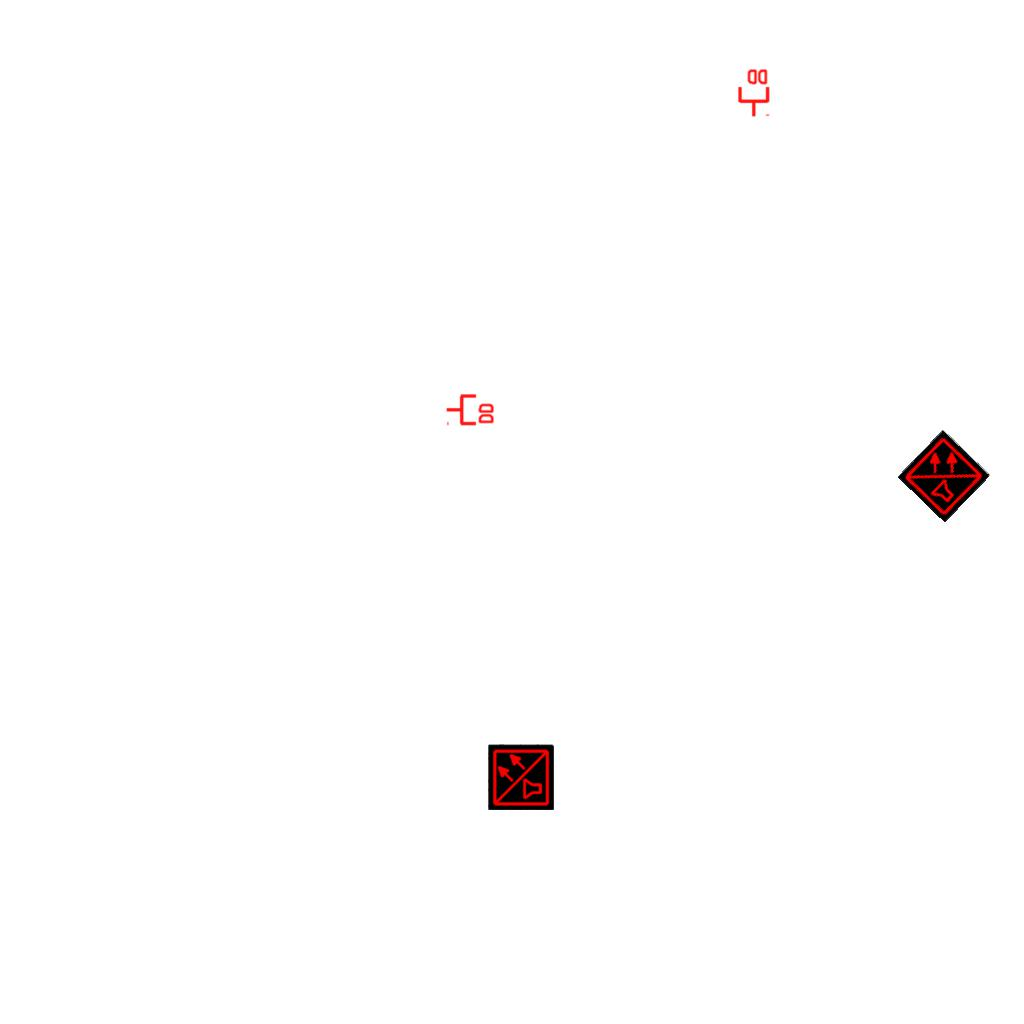Datenanschluss_zweifach: (445, 392, 496, 426), (736, 67, 770, 118)
OKW_Multisensormelder_(Kombination_optischer_Rauch-Kahlenmonoxid_Waerme-Melder): (897, 429, 991, 523), (488, 744, 554, 810)
